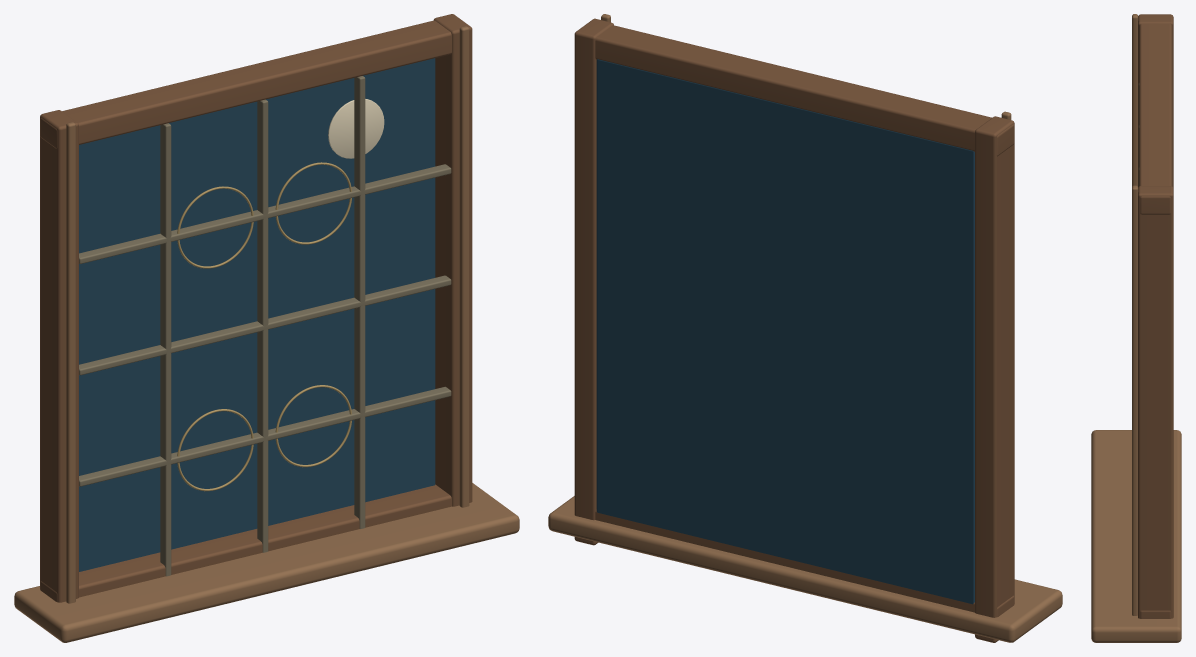
File: chapter-iv-dbf092a12bdd.glb
The picture shows the model from 3 angles, left to right: view 1: azimuth 30°, elevation 25°; view 2: azimuth 150°, elevation 25°; view 3: azimuth 270°, elevation 25°; orthographic projection. The views are drawn at different scales.
Parts seen in each view (by area): view 1: Window backing, Carved jamb, Jamb moulding, Mullion, Leaded circular pane, Moon; view 2: Window backing, Carved jamb, Jamb moulding; view 3: Carved jamb, Jamb moulding, Mullion.
Boxes of the visible parts, <box> form: Window backing: <box>79,58,435,571</box>; Carved jamb: <box>40,14,472,602</box>; Jamb moulding: <box>14,26,519,642</box>; Mullion: <box>79,76,451,576</box>; Leaded circular pane: <box>177,162,351,491</box>; Moon: <box>328,99,384,158</box>; Window backing: <box>596,59,974,604</box>; Carved jamb: <box>574,18,1014,642</box>; Jamb moulding: <box>548,14,1062,642</box>; Carved jamb: <box>1138,14,1173,618</box>; Jamb moulding: <box>1091,14,1181,642</box>; Mullion: <box>1138,83,1139,186</box>.
Size of the model in its own units: 3.45 by 3.65 by 0.6599.
